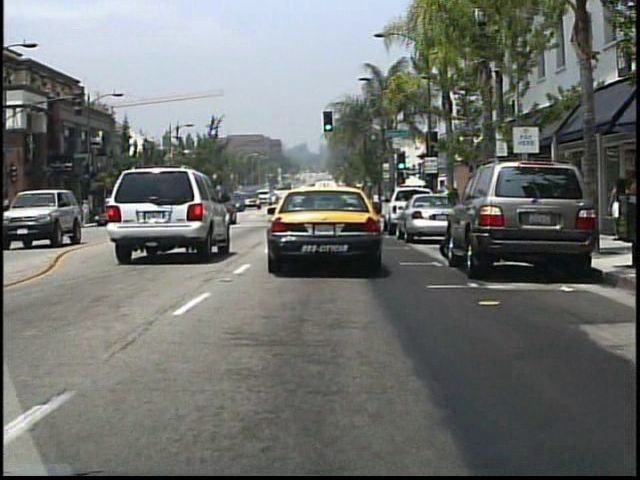person: (609, 181, 631, 243)
